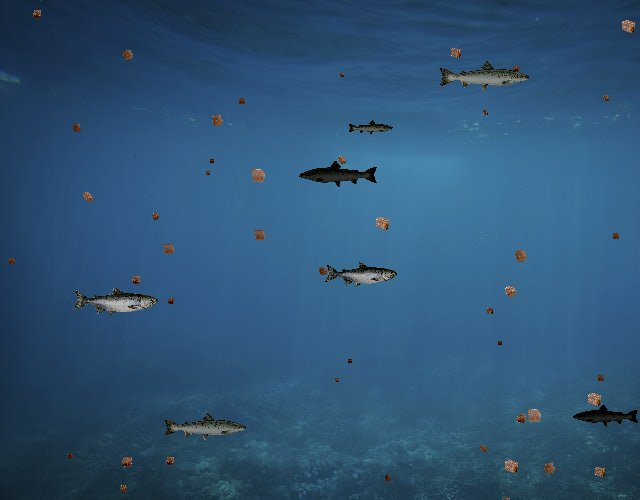Fish: (438, 60, 532, 94), (162, 411, 248, 442), (72, 286, 158, 317), (298, 160, 379, 189), (325, 261, 398, 287), (573, 404, 640, 428), (348, 119, 395, 136)
Pellet: (508, 243, 534, 269), (498, 279, 523, 304), (76, 186, 98, 208), (482, 304, 497, 318), (202, 167, 212, 178)
